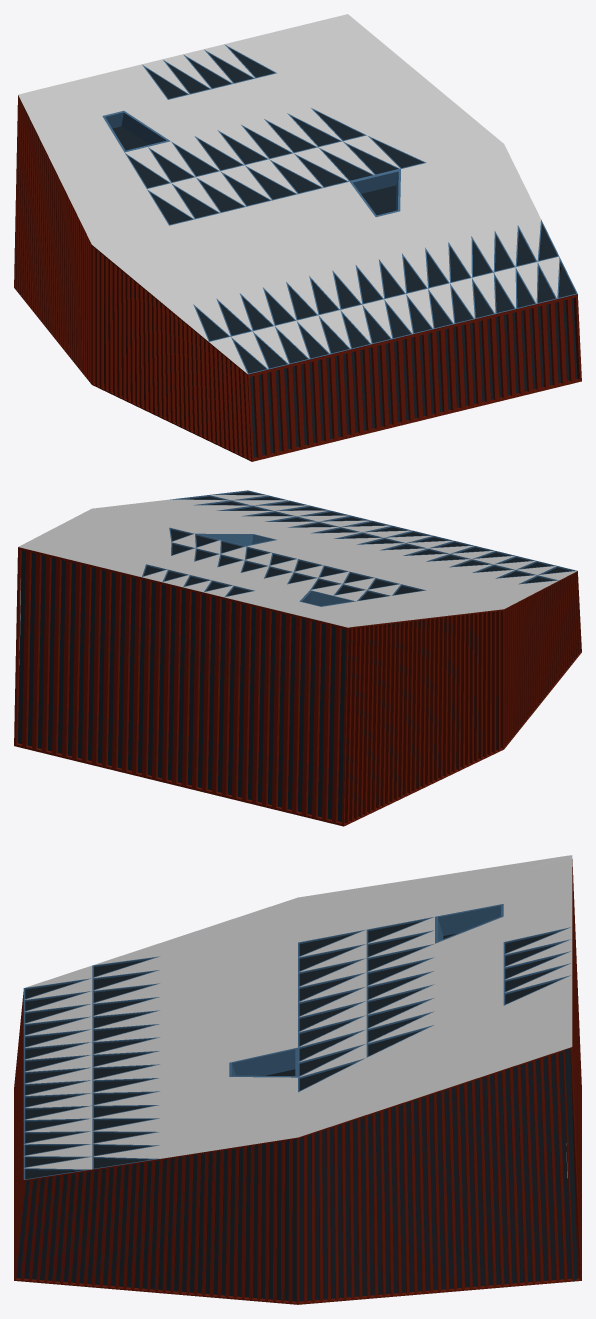
The model's file is Energy_Academy_Building.fbx.
The picture shows the model from 3 angles, top to bottom: view 1: azimuth 30°, elevation 25°; view 2: azimuth 150°, elevation 25°; view 3: azimuth 270°, elevation 25°; orthographic projection. The views are drawn at different scales.
Visible parts, largest first — view 1: Box001; view 2: Box001; view 3: Box001.
Part boxes in pixels (x1,y1,x2,y2): Box001: (14, 14, 581, 461); Box001: (14, 490, 581, 826); Box001: (14, 855, 581, 1304).
Size of the model in its own units: 157 by 71.56 by 157.
